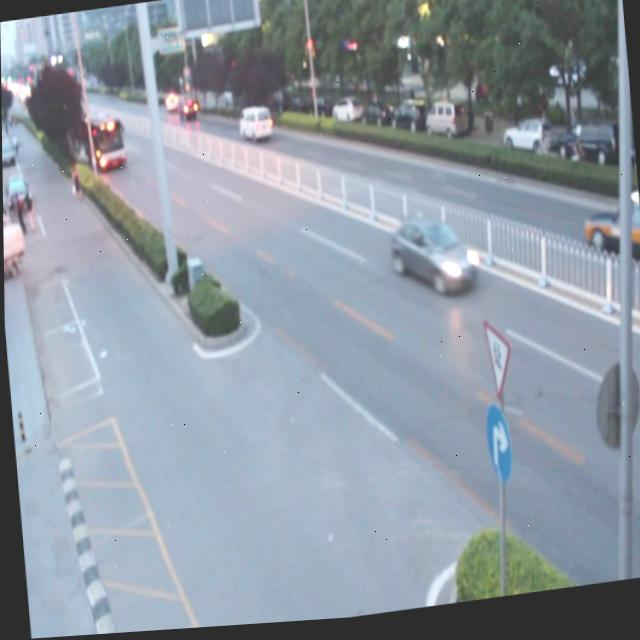car: (387, 215, 477, 308), (578, 197, 640, 277)
truck: (235, 106, 272, 149)
